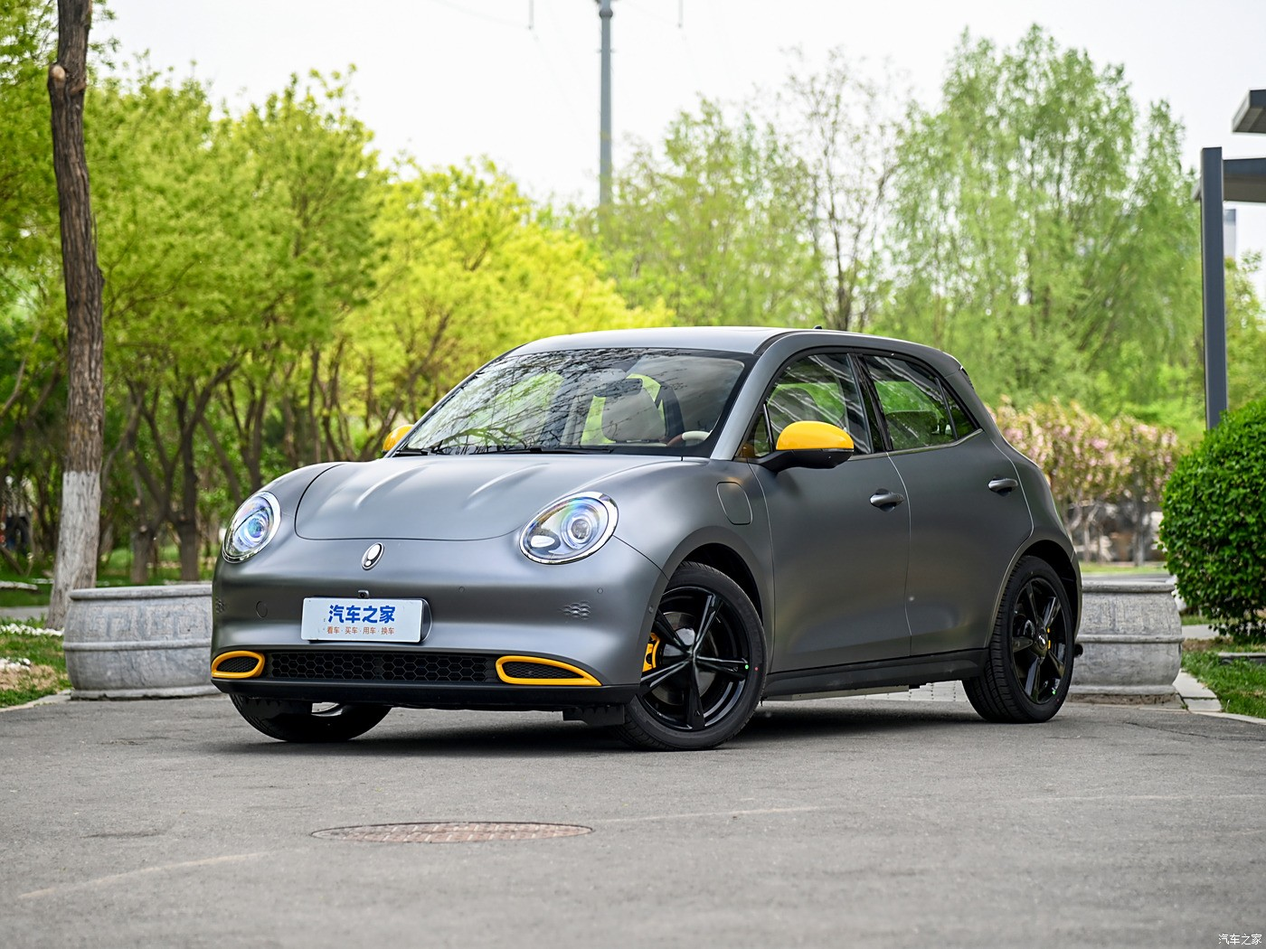ORA: (362, 543, 383, 568)
